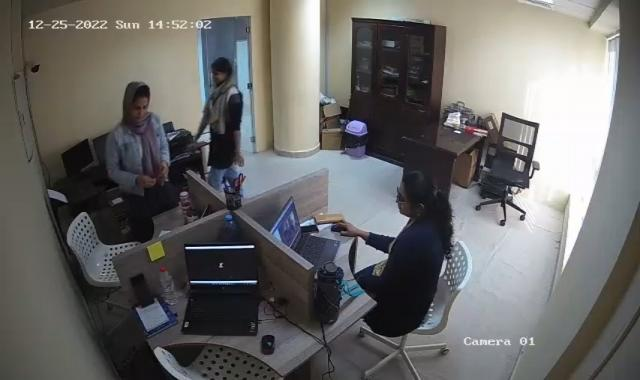no_hairnet: (396, 167, 435, 218), (124, 84, 150, 120), (210, 57, 233, 85)
